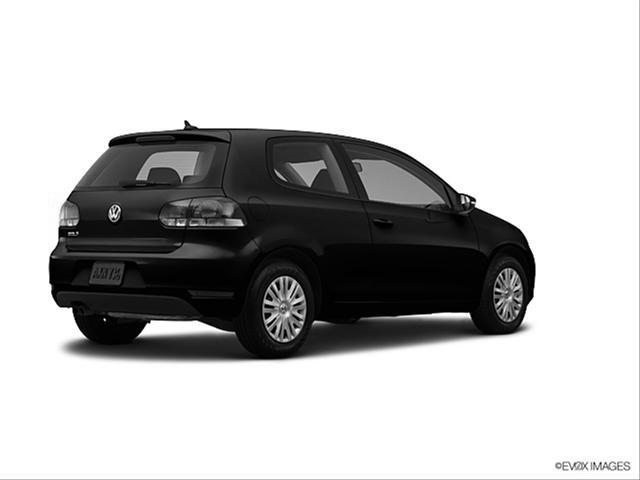car: (43, 119, 537, 366)
